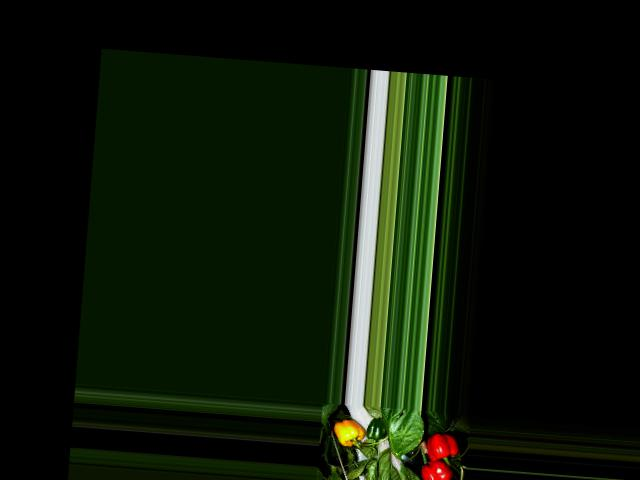bell_pepper: (329, 415, 367, 448)
